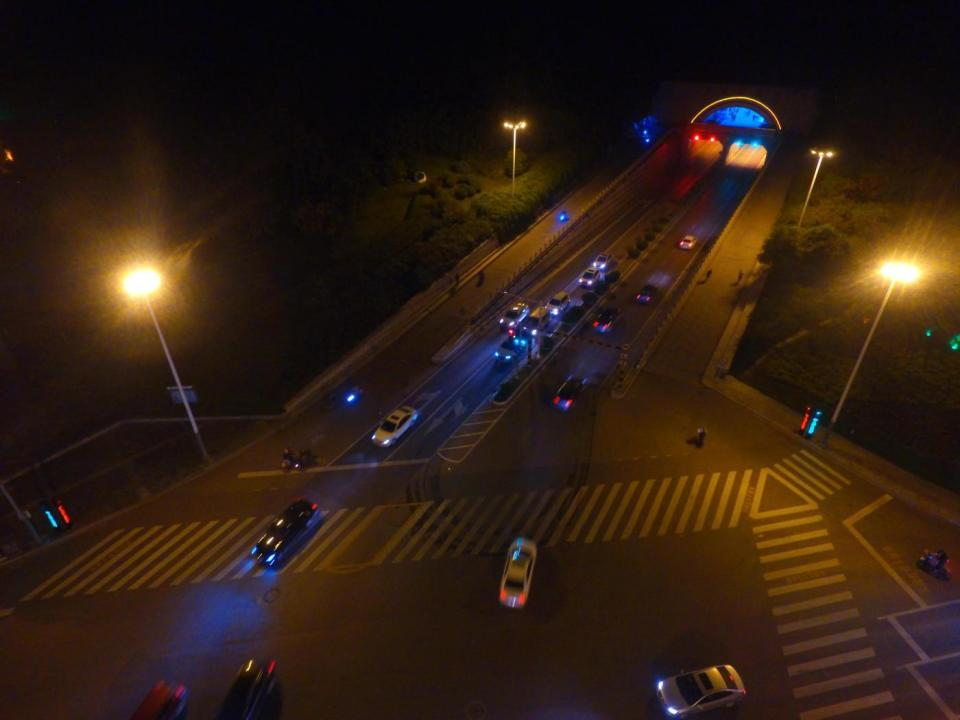car: (253, 497, 318, 567), (214, 655, 282, 716), (496, 535, 536, 610), (128, 677, 193, 720), (370, 407, 416, 449), (552, 374, 585, 412), (591, 306, 622, 334), (498, 304, 530, 329), (496, 336, 520, 361), (634, 283, 657, 305), (577, 268, 600, 288), (594, 253, 612, 270), (680, 234, 696, 251)
van: (524, 306, 548, 336), (546, 292, 569, 319)
